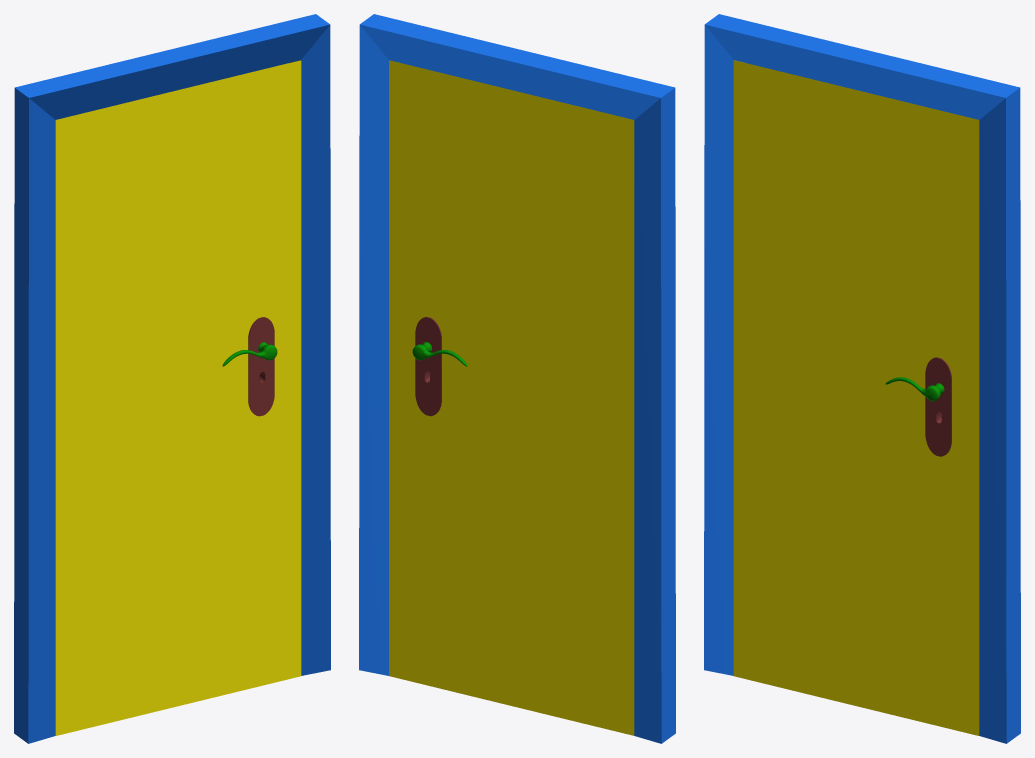
File: A_AH_Door_006.fbx
3 views of the same model, side by side, from view 1: azimuth 30°, elevation 25°; view 2: azimuth 150°, elevation 25°; view 3: azimuth 330°, elevation 25° (orthographic).
Parts seen in each view (by area): view 1: Porte, encadrement; view 2: Porte, encadrement; view 3: Porte, encadrement.
Boxes of the visible parts, bbox=[...] form: Porte: bbox=[55, 60, 301, 735]; encadrement: bbox=[14, 14, 330, 743]; Porte: bbox=[389, 60, 634, 735]; encadrement: bbox=[359, 14, 675, 743]; Porte: bbox=[733, 60, 979, 735]; encadrement: bbox=[704, 14, 1020, 743].
Bounding box in the file's own units: 111 × 226 × 19.13.
